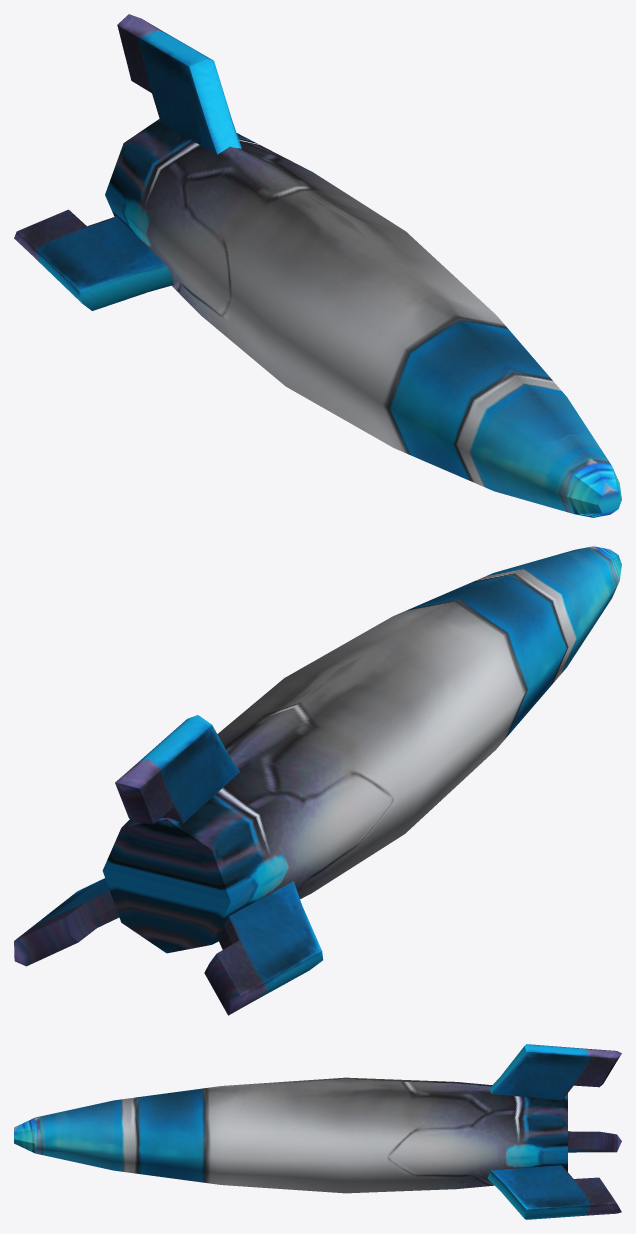
Rendered from feiyi_daodan.FBX.
3 views of the same model, one above another, from view 1: azimuth 30°, elevation 25°; view 2: azimuth 150°, elevation 25°; view 3: azimuth 270°, elevation 25° (orthographic). The views are drawn at different scales.
Parts seen in each view (by area): view 1: feiyi_daodan; view 2: feiyi_daodan; view 3: feiyi_daodan.
Boxes of the visible parts, x1,y1,x2,y2 form: feiyi_daodan: (14, 14, 621, 517); feiyi_daodan: (14, 546, 621, 1015); feiyi_daodan: (14, 1044, 621, 1219).
Size of the model in its own units: 10.12 by 9.27 by 34.88.
